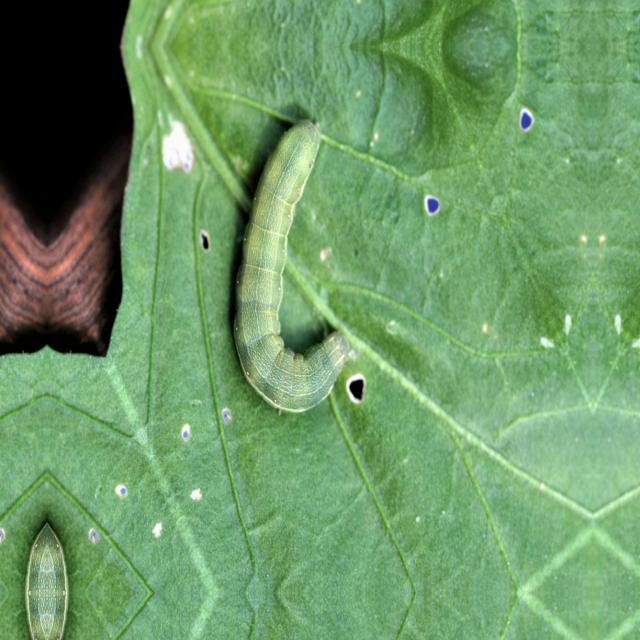Armyworm: (230, 70, 354, 422)
Armyworm_damage: (181, 179, 223, 294), (507, 97, 545, 153), (341, 358, 376, 415), (406, 193, 460, 226)
